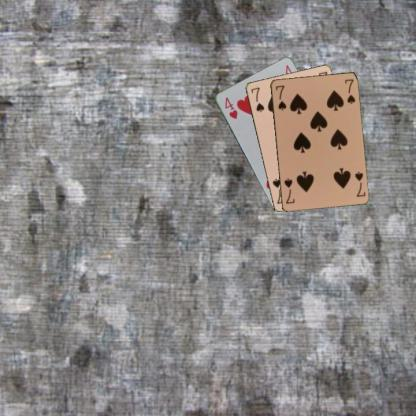4h: (222, 94, 238, 121)
7s: (248, 84, 265, 113), (273, 82, 287, 112), (352, 168, 366, 198)
